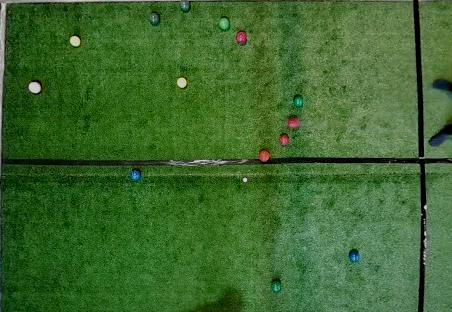blue: (130, 170, 141, 181), (349, 252, 360, 262)
green: (219, 18, 230, 31), (179, 0, 190, 12), (149, 13, 159, 25), (293, 96, 303, 107), (271, 281, 281, 292)
red: (258, 150, 270, 162), (28, 82, 41, 93), (288, 118, 300, 129), (236, 32, 247, 43), (279, 135, 289, 146)
vline: (413, 0, 451, 311), (0, 0, 9, 311)
white: (243, 178, 247, 182)
yellow: (69, 36, 81, 47), (177, 77, 188, 88)
